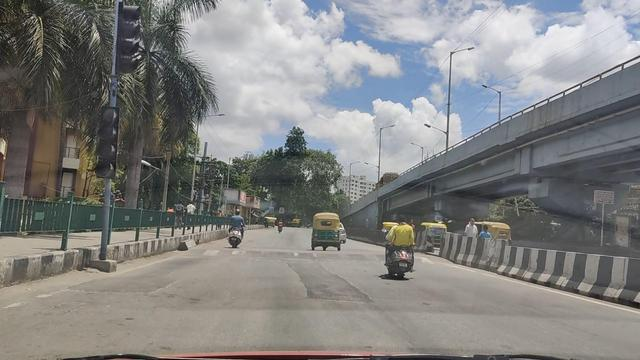LMV: (388, 217, 416, 280), (312, 211, 341, 252), (231, 211, 242, 246)
SpeedBump: (197, 247, 305, 257), (338, 249, 390, 259)
